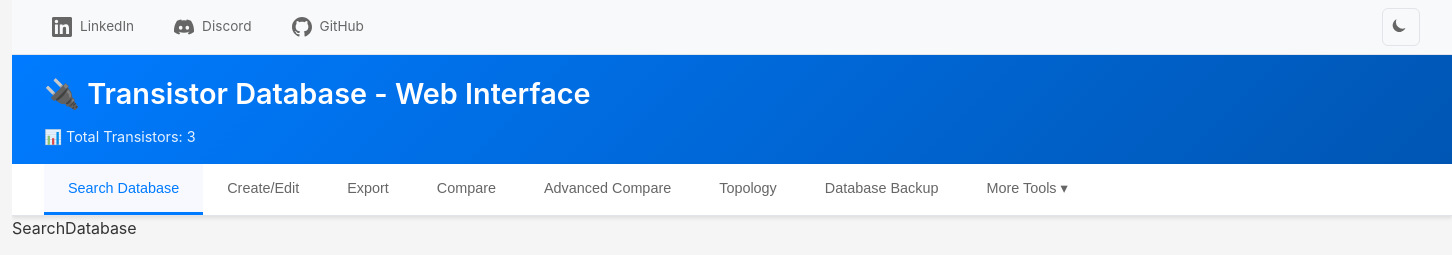
Test: App.vue › Navigation › opens database backup from the active navigation
Click the button with class "nav-btn" showing "Database Backup" at [882, 190], box [801, 164, 962, 215]
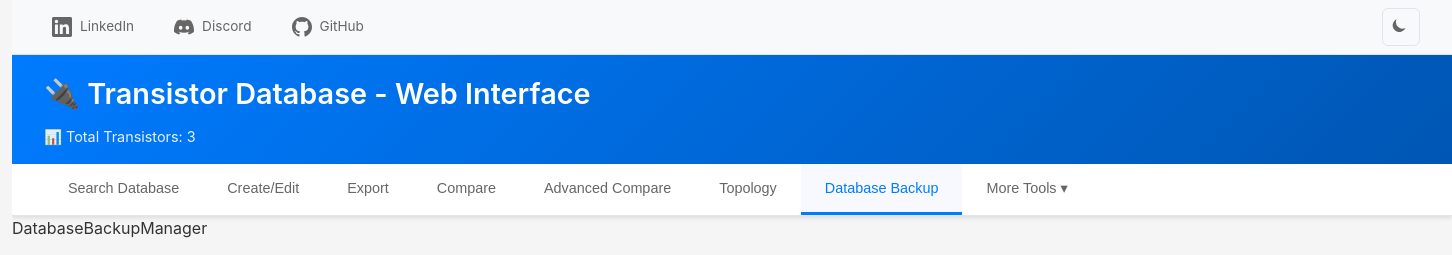
Expected: the text "DatabaseBackupManager" is shown, [12, 218, 207, 238]
